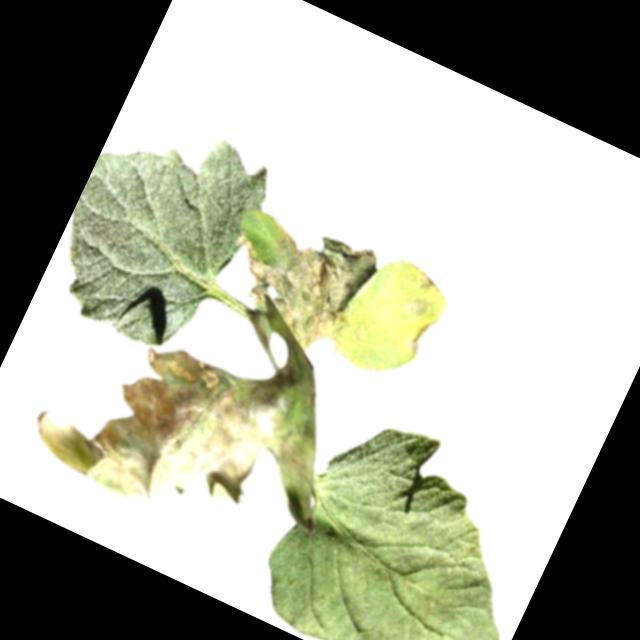Late_blight: (19, 302, 360, 578), (212, 200, 383, 364), (401, 317, 434, 355), (396, 293, 429, 323)
healthy: (246, 394, 568, 640), (36, 95, 279, 367)
